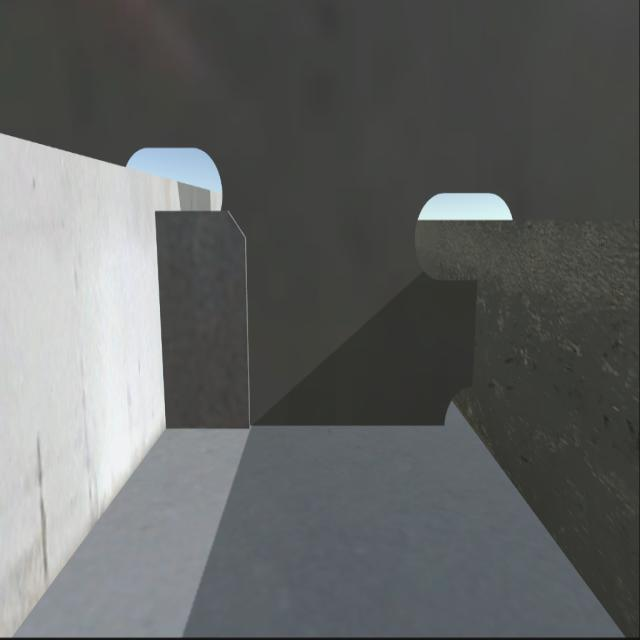fillet_hole: (442, 386, 474, 432)
fillet_yong_jeop_jang: (165, 411, 448, 438)
longi_yong_jeop_jang: (148, 207, 170, 432), (464, 282, 481, 389)
plate_CP03: (155, 209, 250, 436)
